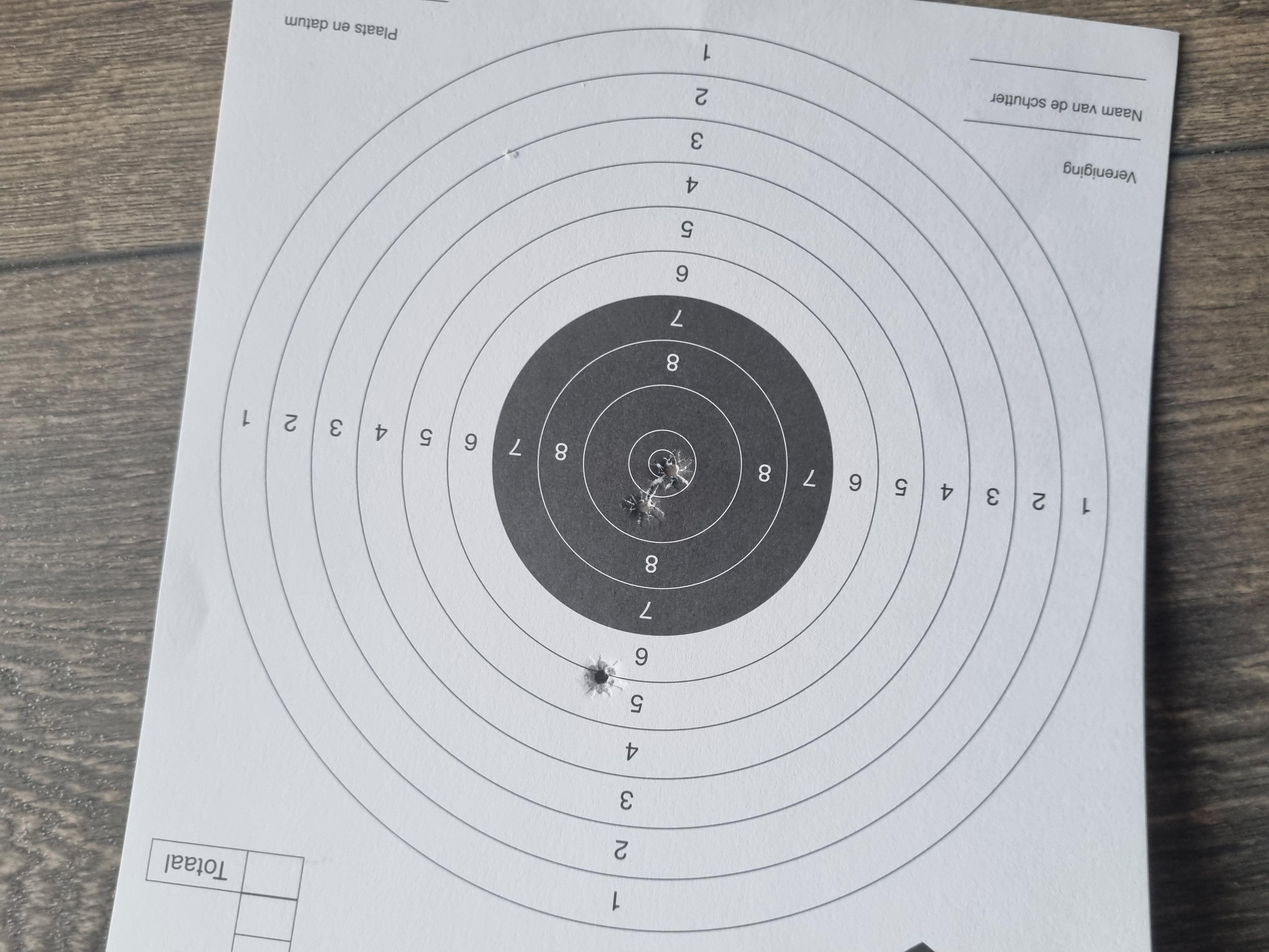hole: (617, 488, 670, 522), (568, 468, 618, 503), (343, 435, 396, 468)
